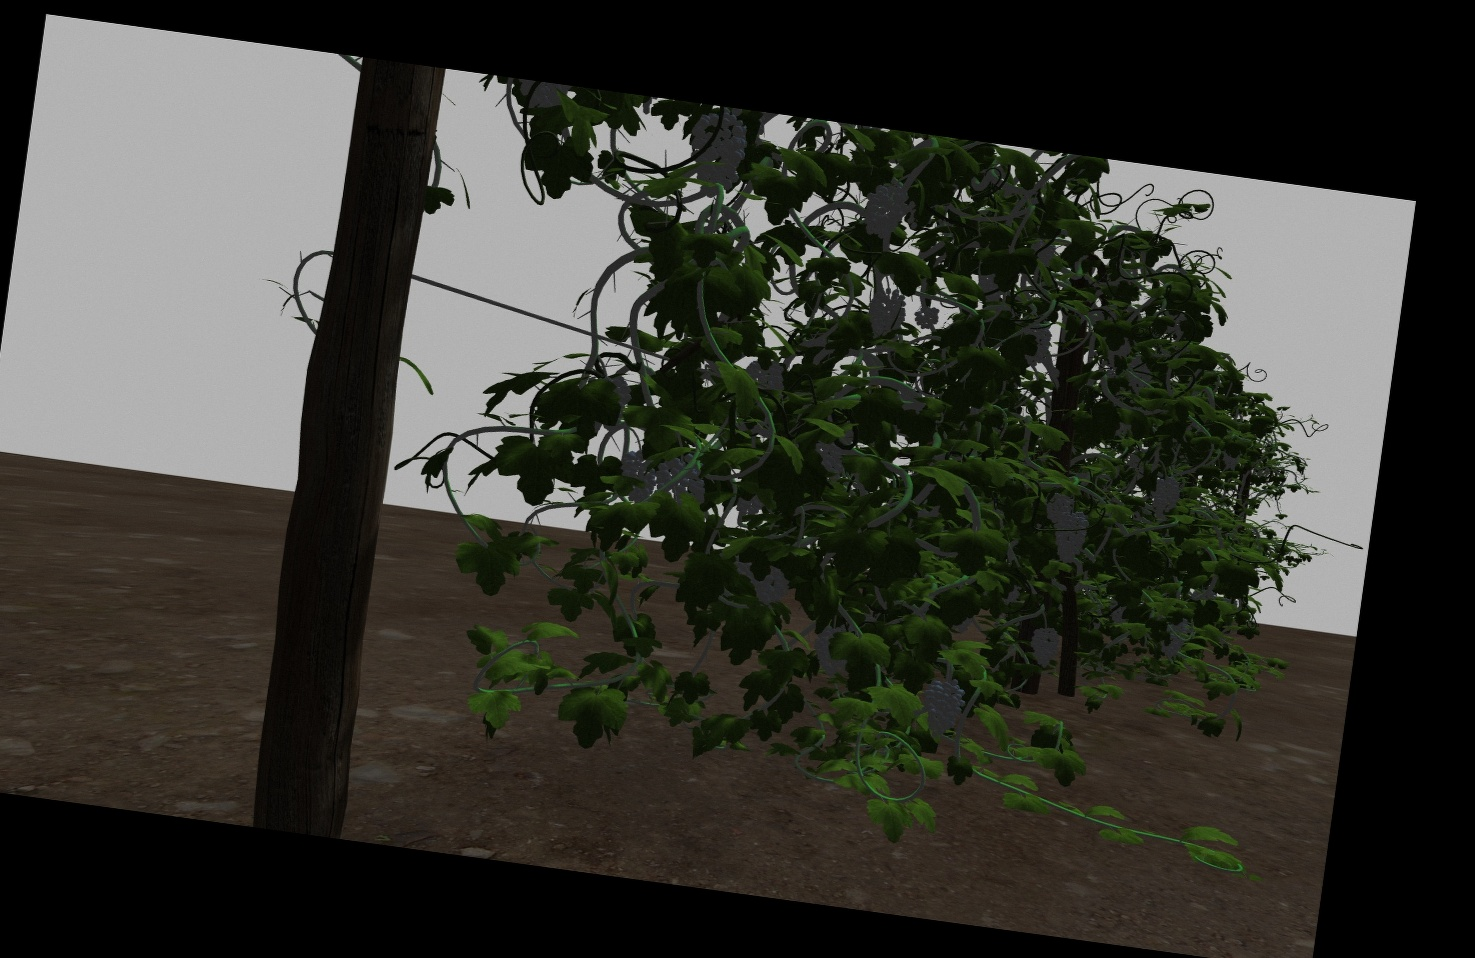grape: (689, 113, 745, 197), (916, 675, 965, 744), (654, 451, 706, 505), (861, 178, 907, 239), (867, 284, 907, 337), (620, 448, 657, 503), (812, 625, 848, 678), (1054, 514, 1085, 564), (1148, 472, 1179, 518), (1028, 625, 1059, 668), (1160, 615, 1188, 658), (1046, 491, 1070, 524), (913, 304, 939, 328)
